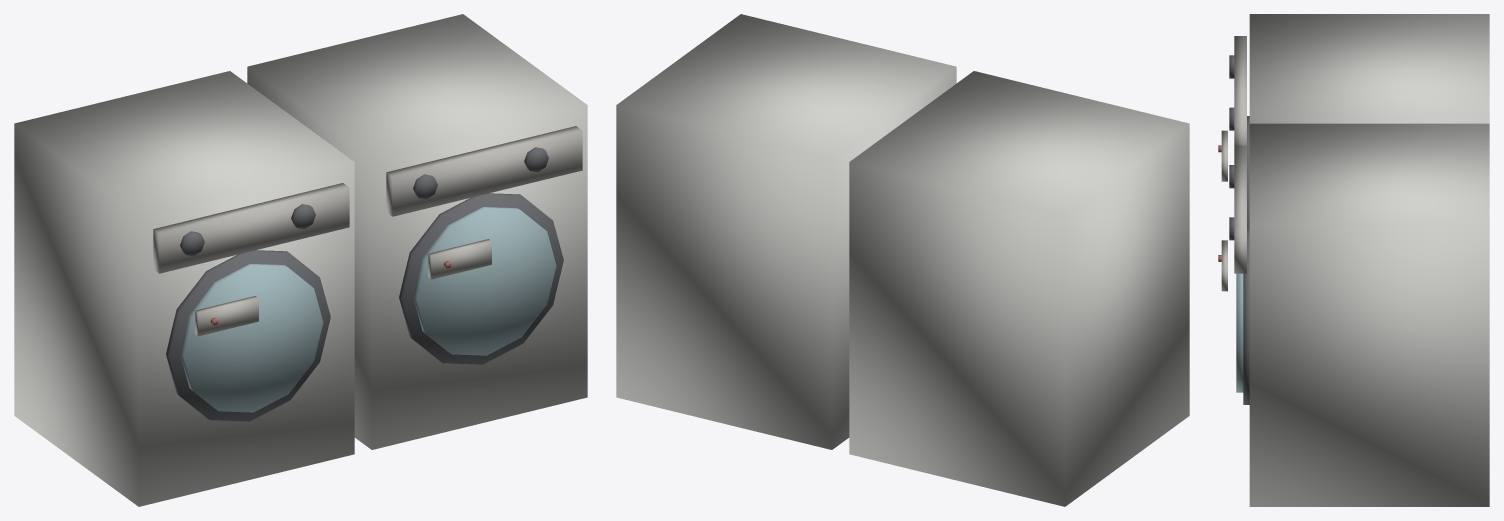
The model's file is domestic_dryer__cluster.glb.
3 views of the same model, side by side, from view 1: azimuth 30°, elevation 25°; view 2: azimuth 150°, elevation 25°; view 3: azimuth 270°, elevation 25° (orthographic). The views are drawn at different scales.
Parts seen in each view (by area): view 1: world; view 2: world; view 3: world.
Boxes of the visible parts, left/top/right/bottom form: world: left=14, top=14, right=587, bottom=506; world: left=616, top=14, right=1189, bottom=506; world: left=1218, top=14, right=1489, bottom=506.
Bounding box in the file's own units: 1.41 × 0.88 × 0.7685.
